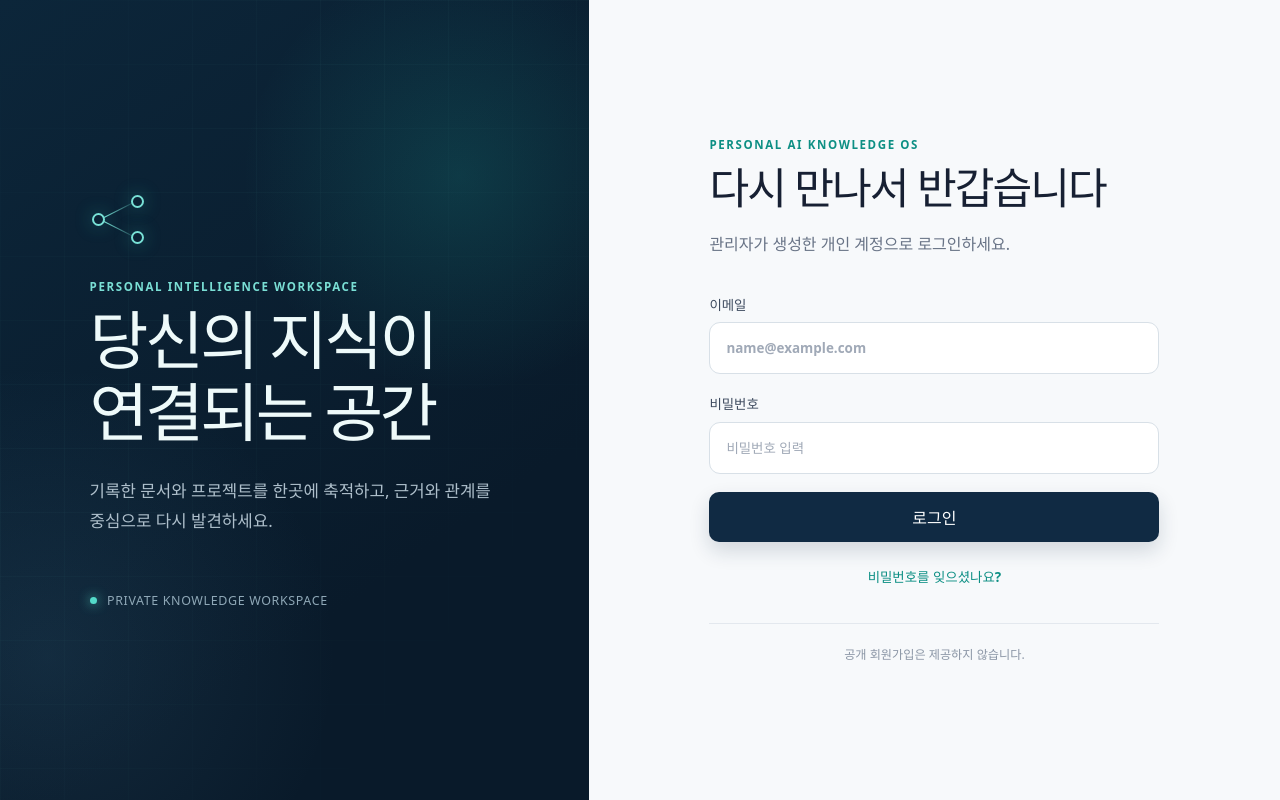
Test case: authentication shell › signs in with email and password
The image size is (1280, 800).
Type "owner@example.com" into the field labelled "이메일" at (934, 348), box [709,322,1159,374]
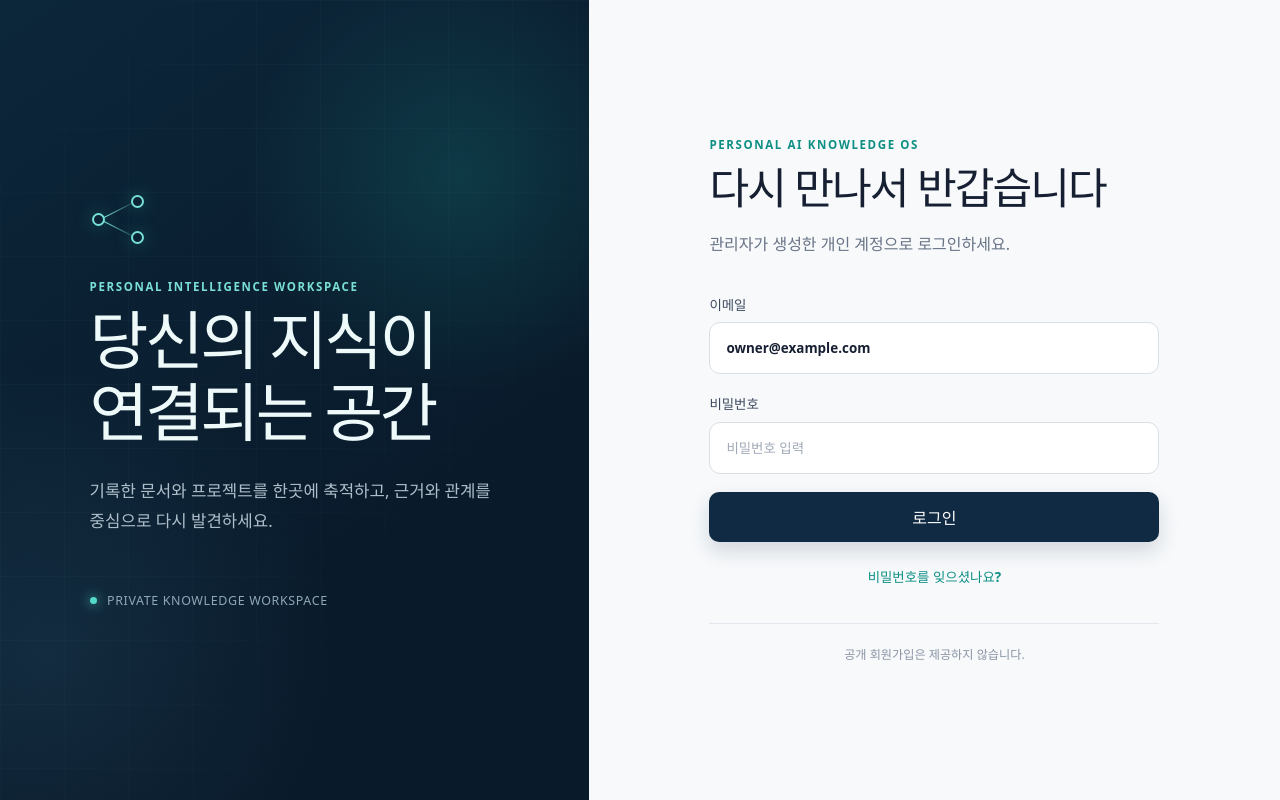
Type "correct-password" into the password field labelled "비밀번호" at (934, 448), box [709,422,1159,474]
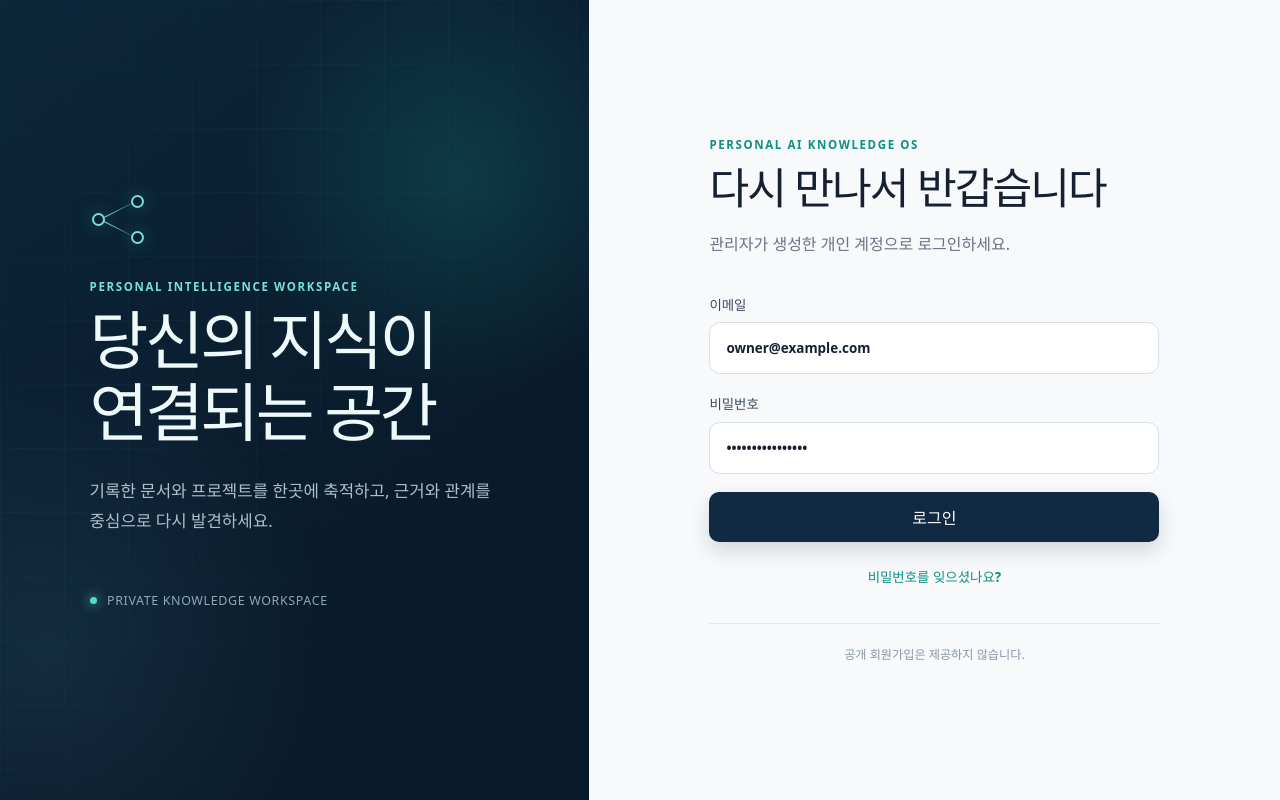
Click the button "로그인" at (934, 517), box [709,492,1159,542]
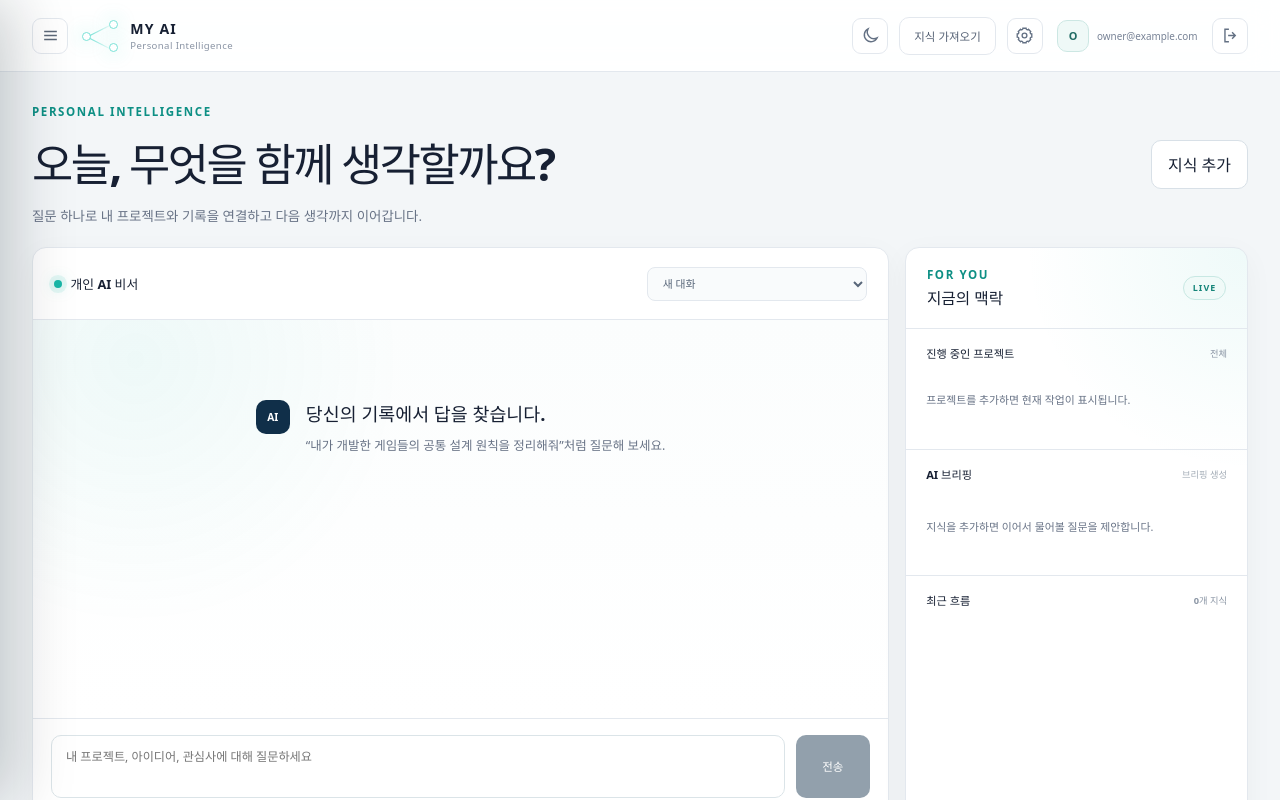
Expected: the heading "오늘, 무엇을 함께 생각할까요?" is shown, [32,129,554,194]
